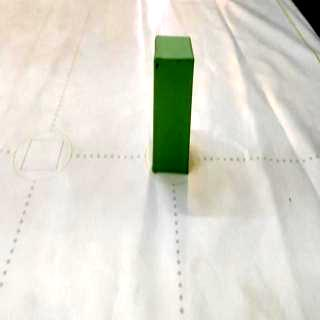greenbox: (150, 31, 197, 176)
